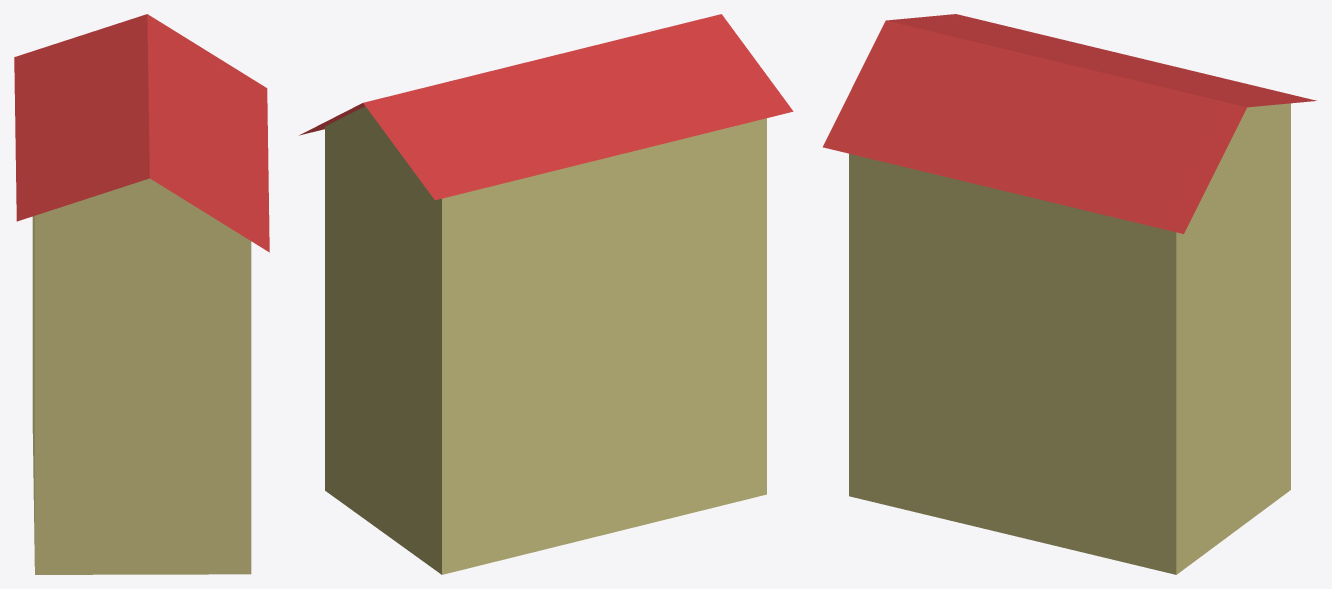
The picture shows the model from 3 angles, left to right: view 1: azimuth 30°, elevation 25°; view 2: azimuth 150°, elevation 25°; view 3: azimuth 270°, elevation 25°; orthographic projection. The views are drawn at different scales.
Visible parts, largest first — view 1: group_5, group_3, group_4; view 2: group_5, group_3, group_4; view 3: group_5, group_3, group_4.
Part boxes in pixels (box(x1,y1,x2,y2)): group_5: box(32, 178, 251, 574); group_3: box(32, 14, 269, 252); group_4: box(14, 14, 267, 221); group_5: box(325, 106, 766, 574); group_3: box(299, 18, 766, 182); group_4: box(312, 14, 793, 200); group_5: box(849, 103, 1290, 574); group_3: box(823, 19, 1289, 233); group_4: box(886, 14, 1316, 233).
Size of the model in its own units: 5.63 by 6.32 by 6.08.
